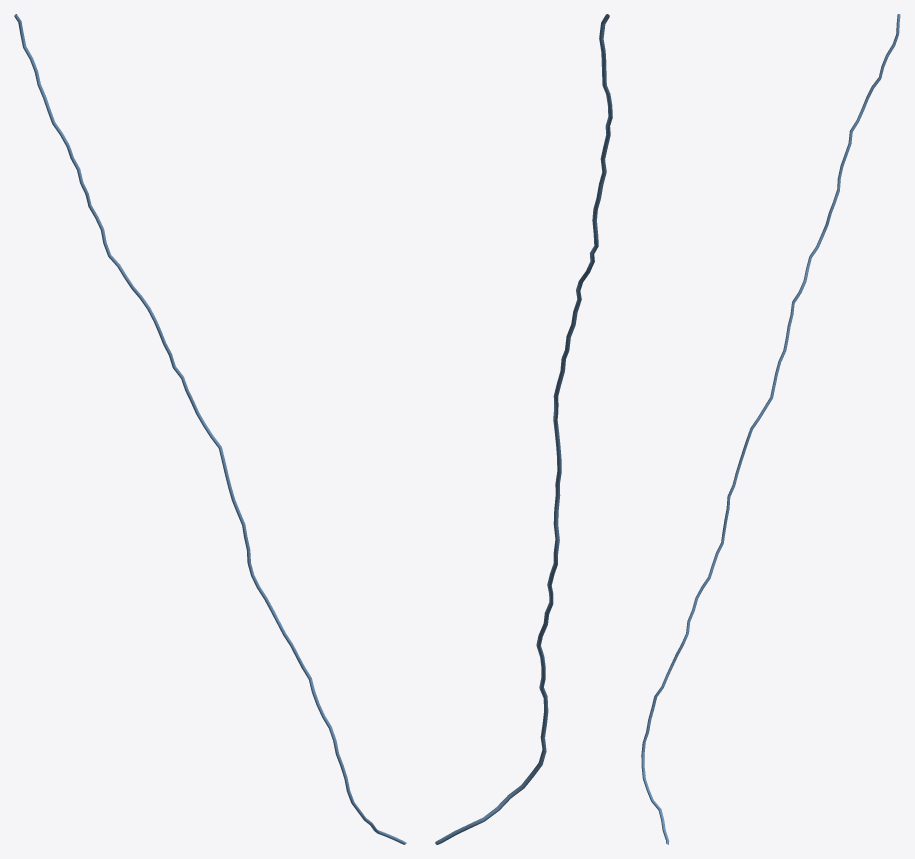
File: sweep267.fbx
3 renders of one model, left to right at view 1: azimuth 30°, elevation 25°; view 2: azimuth 150°, elevation 25°; view 3: azimuth 270°, elevation 25°, orthographic. The views are drawn at different scales.
Visible parts, largest first — view 1: sweep267; view 2: sweep267; view 3: sweep267.
Part boxes in pixels (box(x1,y1,x2,y2)): sweep267: box(14, 14, 406, 844); sweep267: box(435, 14, 612, 844); sweep267: box(641, 14, 900, 844).
Bounding box in the file's own units: 1.71 × 4.96 × 1.62.
